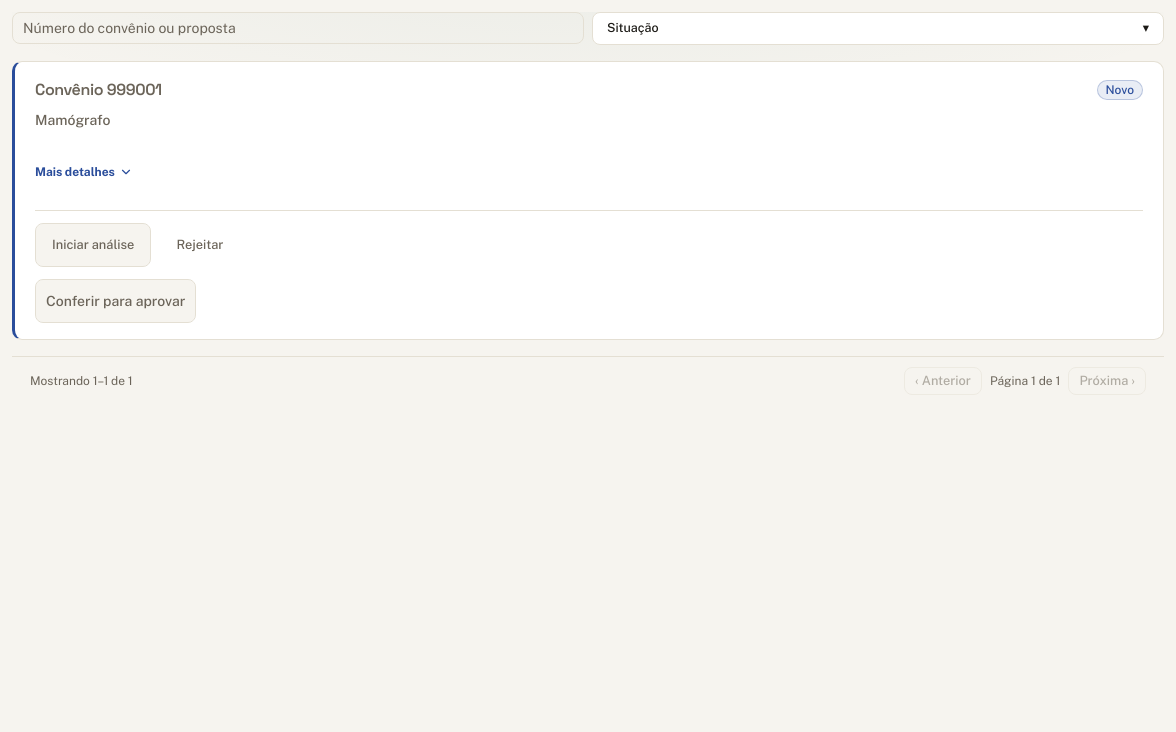
Test: conferência e aprovação no Radar › não confere prova de versão diferente da lista
Click the button "Conferir para aprovar".
click(116, 301)  # box [35,279,196,323]
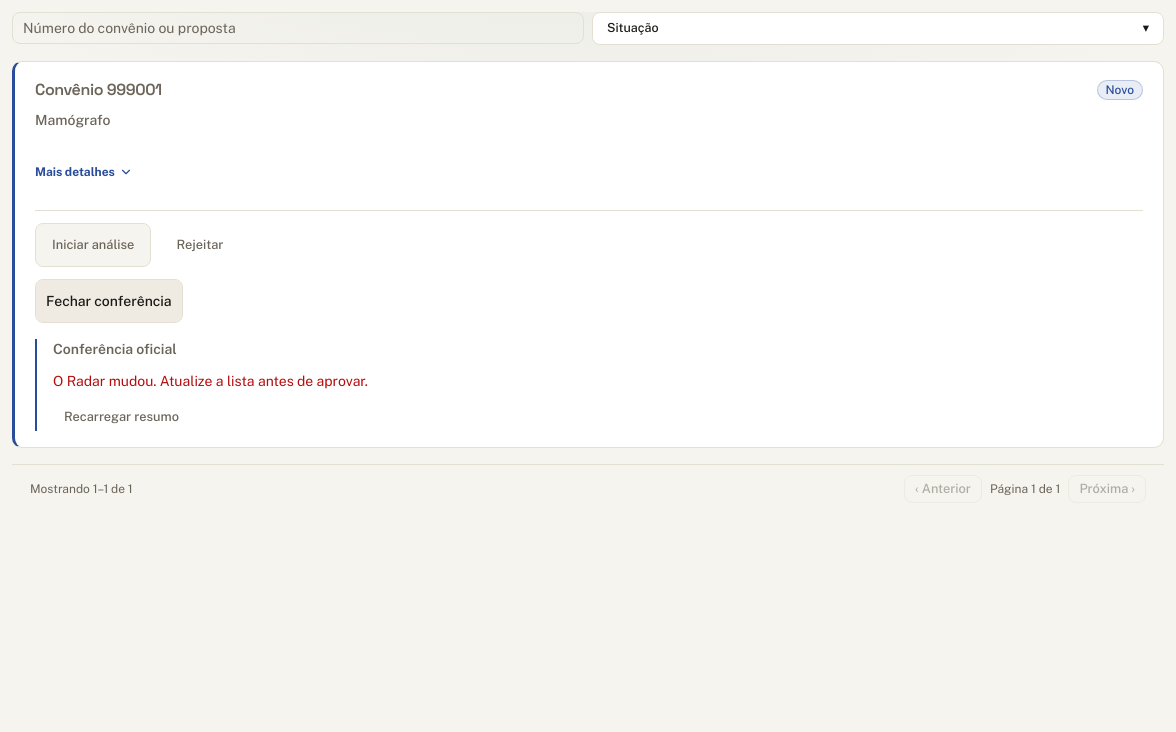
Check: the text "O Radar mudou. Atualize a lista antes de aprovar." is shown, box [53,373,368,389]
